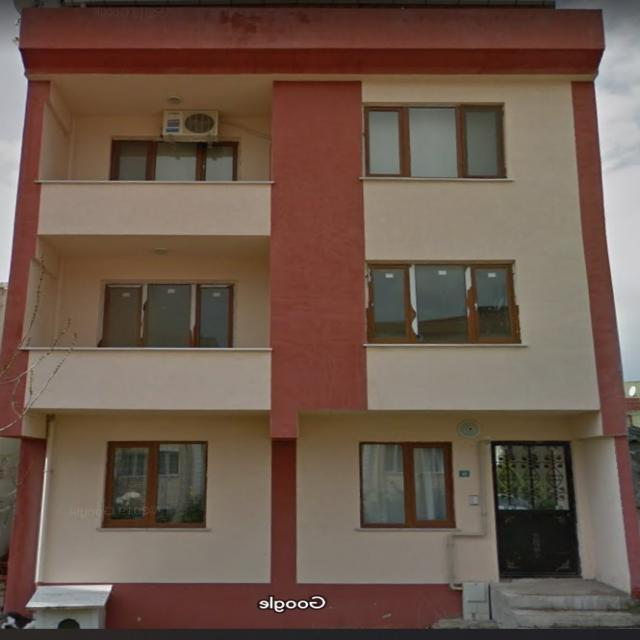Building: (0, 0, 639, 629)
